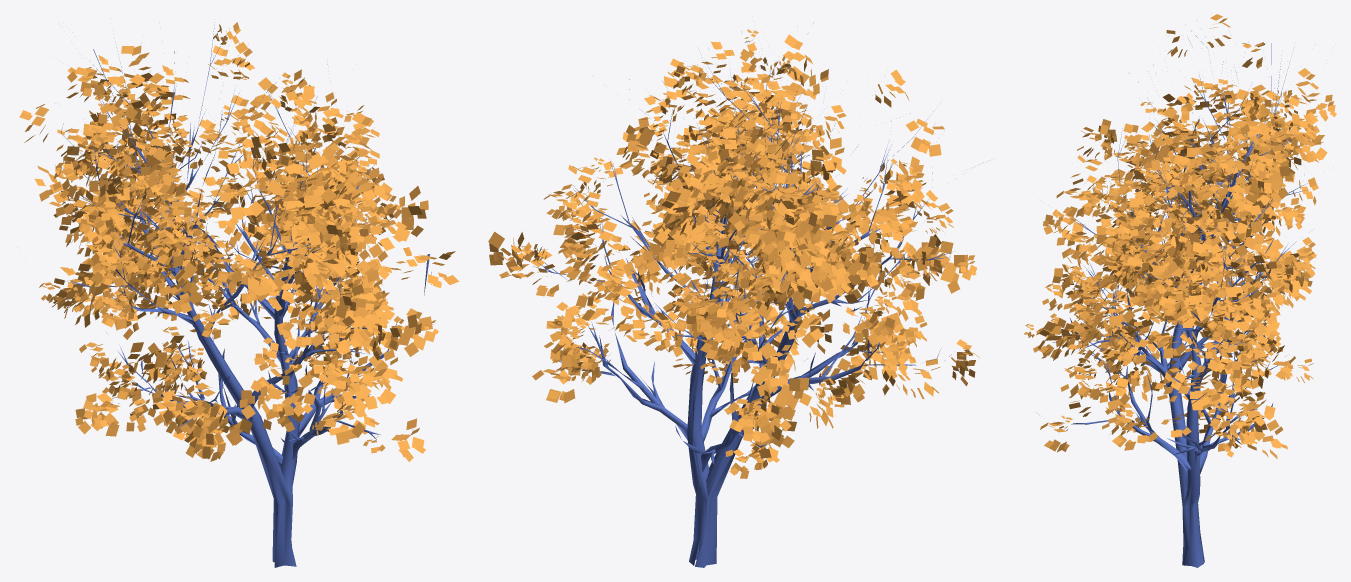
Rendered from smalltree.glb.
The picture shows the model from 3 angles, left to right: view 1: azimuth 30°, elevation 25°; view 2: azimuth 150°, elevation 25°; view 3: azimuth 270°, elevation 25°; orthographic projection. The views are drawn at different scales.
Visible parts, largest first — view 1: Tree_LOD_2, Tree_LOD_2.001; view 2: Tree_LOD_2, Tree_LOD_2.001; view 3: Tree_LOD_2, Tree_LOD_2.001.
Boxes of the visible parts, x1=… form: Tree_LOD_2: x1=19, y1=22, x2=459, y2=461; Tree_LOD_2.001: x1=61, y1=22, x2=431, y2=567; Tree_LOD_2: x1=488, y1=29, x2=979, y2=478; Tree_LOD_2.001: x1=533, y1=23, x2=987, y2=567; Tree_LOD_2: x1=1024, y1=14, x2=1336, y2=458; Tree_LOD_2.001: x1=1036, y1=21, x2=1307, y2=567.
Bounding box in the file's own units: 14.66 × 17.64 × 10.34.
